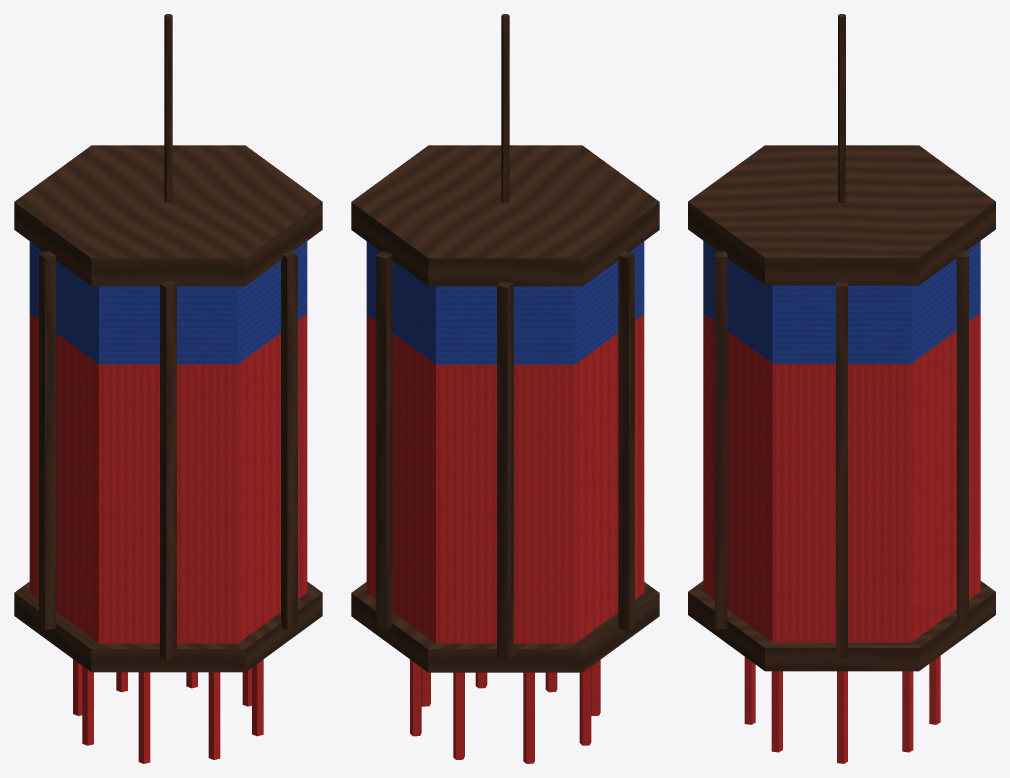
File: farol_cuerpo.obj
3 views of the same model, side by side, from view 1: azimuth 30°, elevation 25°; view 2: azimuth 150°, elevation 25°; view 3: azimuth 270°, elevation 25° (orthographic).
Parts seen in each view (by area): view 1: farol_cuerpo; view 2: farol_cuerpo; view 3: farol_cuerpo.
Boxes of the visible parts, x1,y1,x2,y2 form: farol_cuerpo: (14,14,322,763); farol_cuerpo: (351,14,659,763); farol_cuerpo: (688,14,995,763).
Size of the model in its own units: 0.284 by 0.76 by 0.3.
3 materials, 3 textured.
